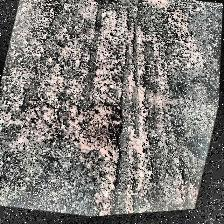pothole: (25, 87, 141, 171)
